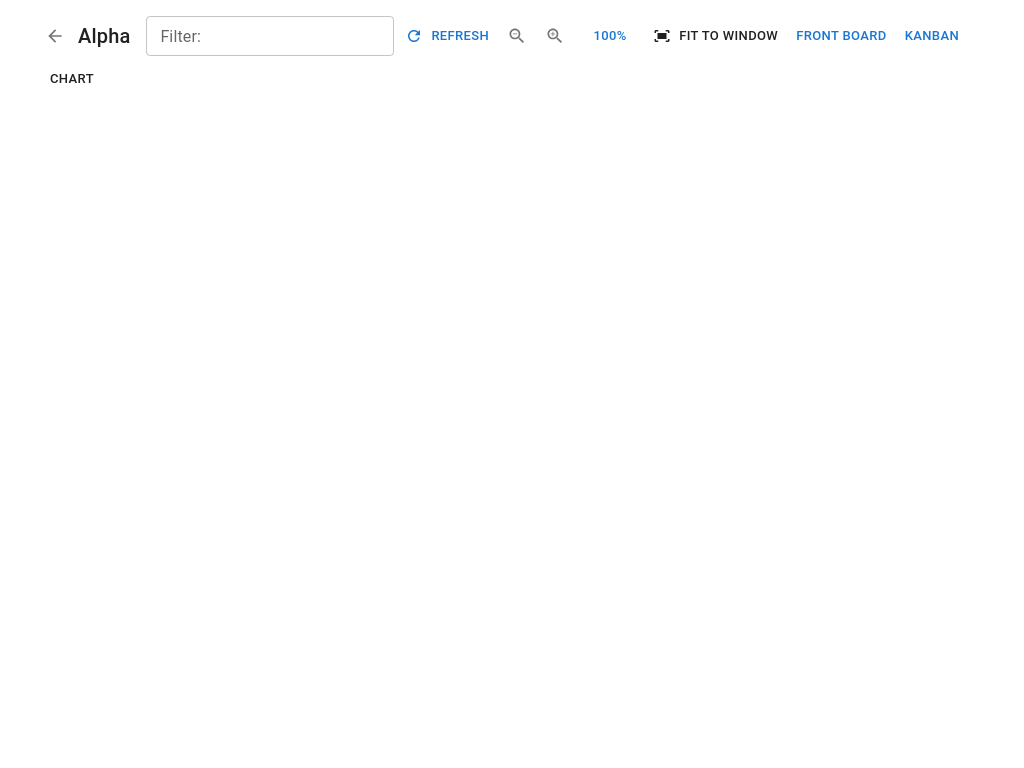
Scenario: Kanban/Chart toolbar toggle swaps the canvas for the metrics panel and back
Click the button with test id "view-chart-button" at point(72, 79), box [40, 64, 104, 95]
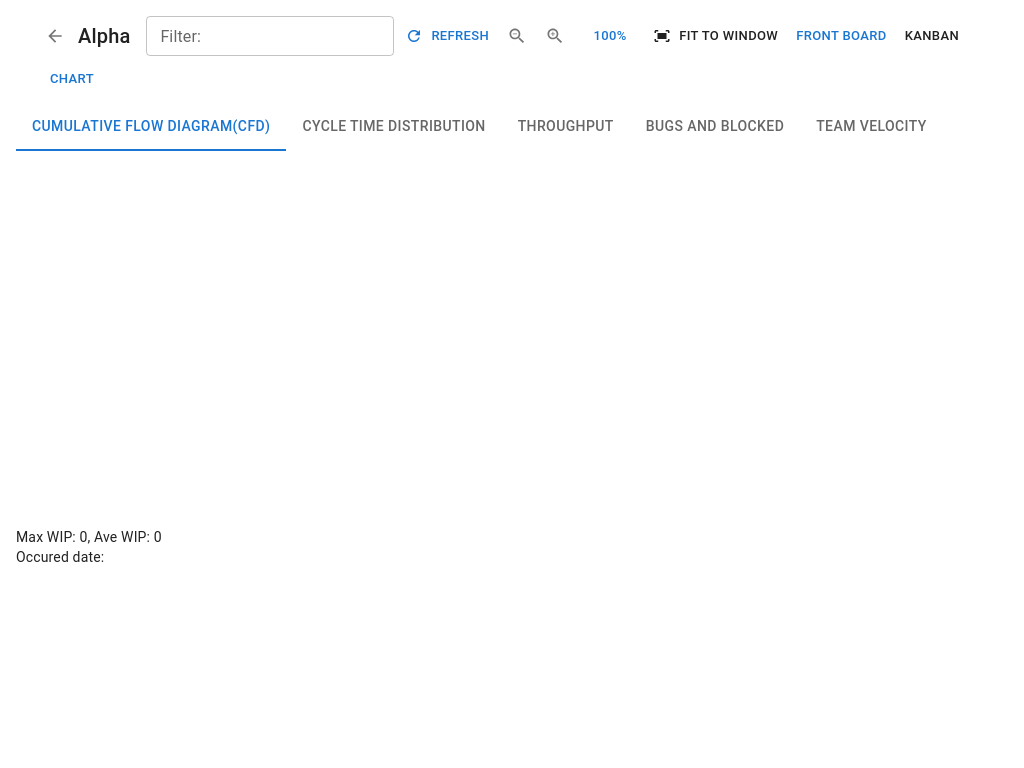
Now the element with test id "metrics-panel" is shown, box [16, 103, 1008, 567]
Now the element with test id "board-canvas" is gone
Click the button with test id "view-kanban-button" at point(932, 36), box [900, 21, 964, 51]
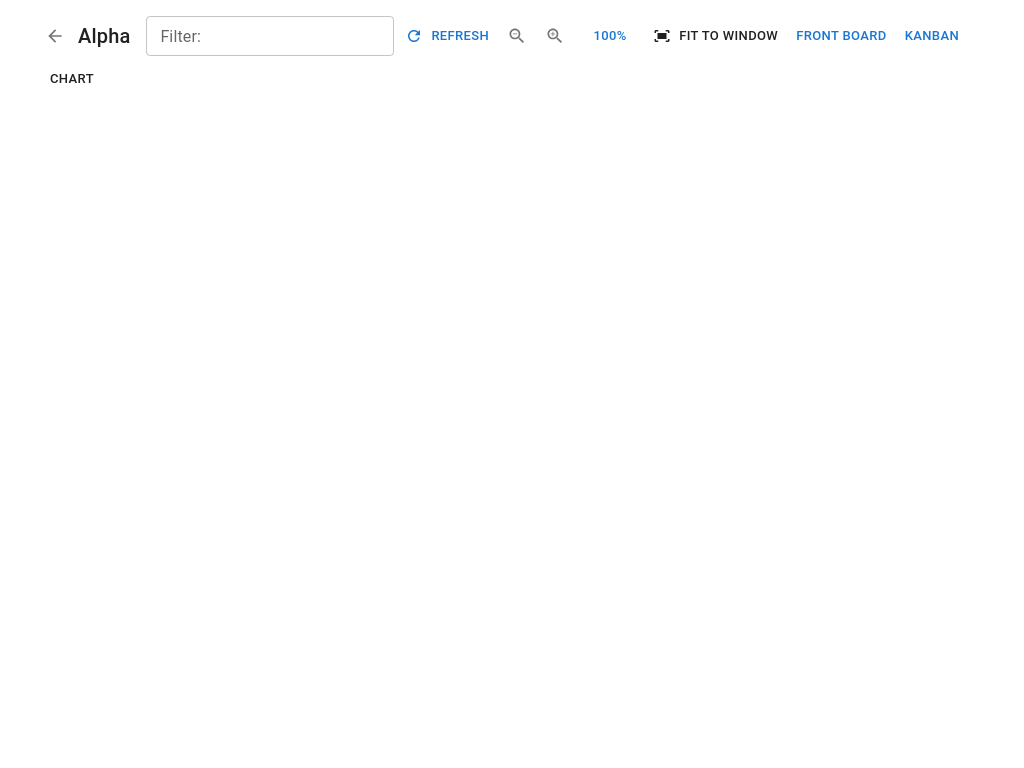
Now the element with test id "metrics-panel" is gone
